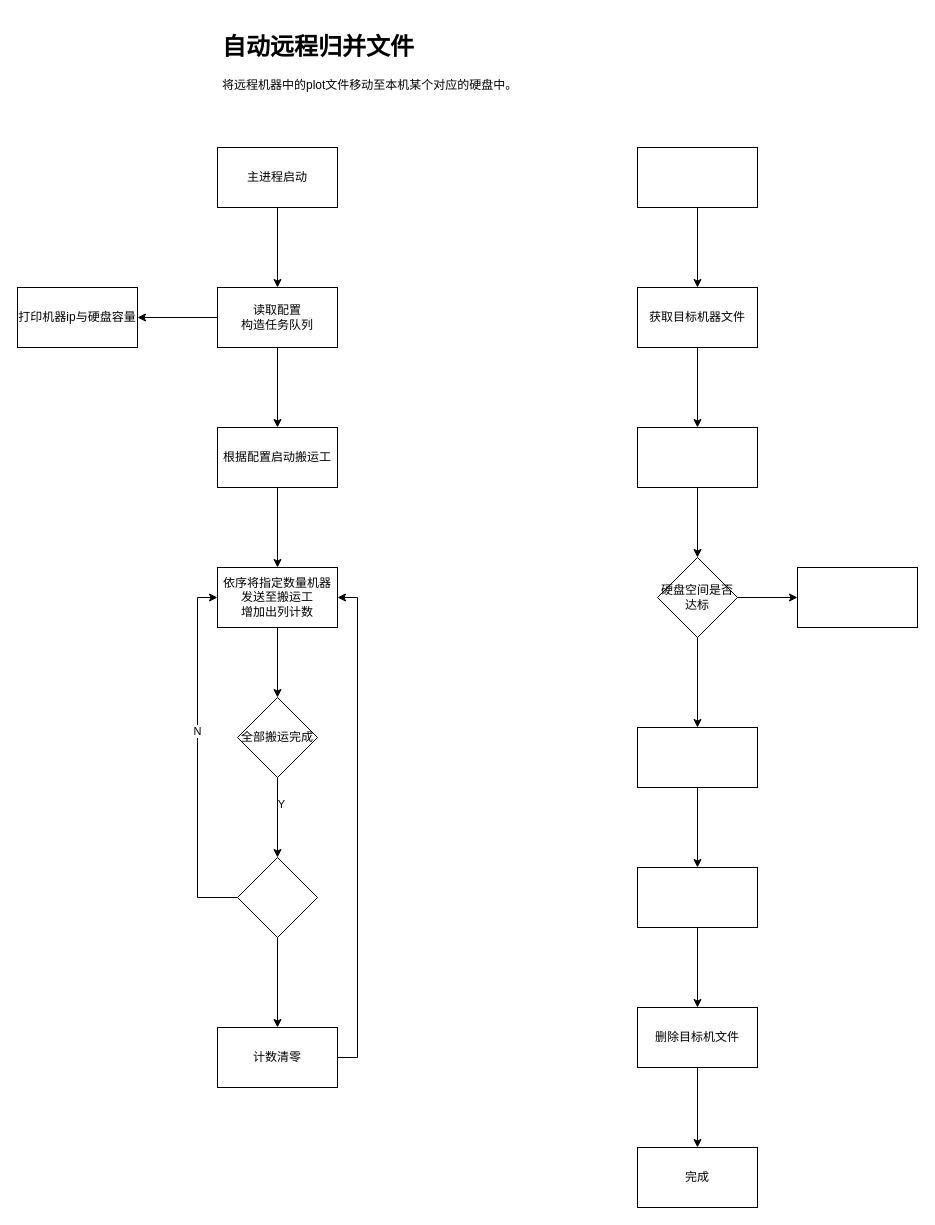
The diagram is 935 pixels wide and 1225 high, and some of its shapes have lost their labels. Each missing label, with the centre of its shape:
出列计数大于机器数: point 277,897
复制文件: point 697,757
报警，退出: point 857,597
搬运工: point 697,177
核对文件大小: point 697,897
检测当前硬盘空间: point 697,457
